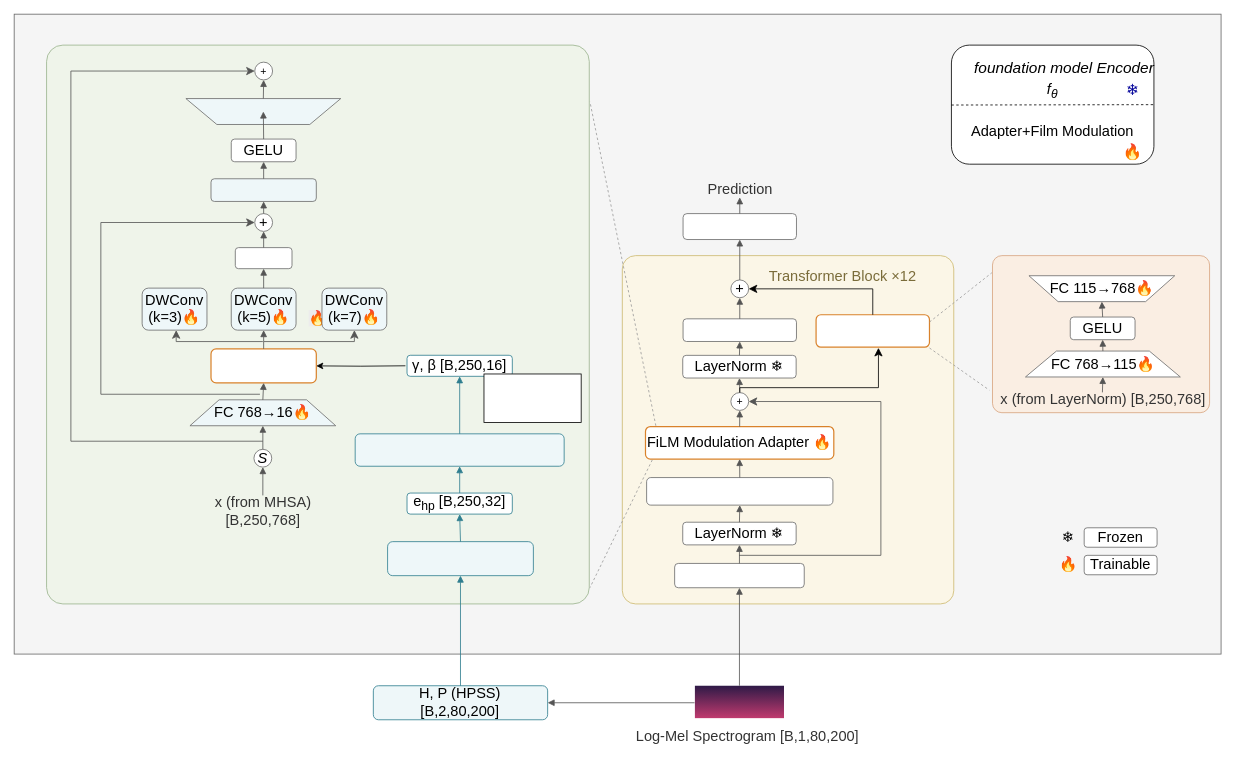
Image size: 1235x760. Some labels were removed from this diagram. Here are the shapes that lost their labels. From the top down, the centre of each, then its label:
At point 263,111: "FC 16→768 🔥".
At point 263,189: "Conv (k=1) 🔥".
At point 739,226: "Linear Head 🔥".
At point 263,258: "Avg.".
At point 739,329: "MLP ❄".
At point 872,330: "Res-Adapter 🔥".
At point 263,365: "FiLM (1+γ)⊙h+β".
At point 459,449: "FiLM generator 🔥 LN→FC→GELU→FC (zero-init)".
At point 739,491: "Multi-Head Self-Attention ❄".
At point 460,558: "HP Patch Embed 🔥 Conv(16×4), d=32".
At point 739,575: "Patch Projection ❄".
